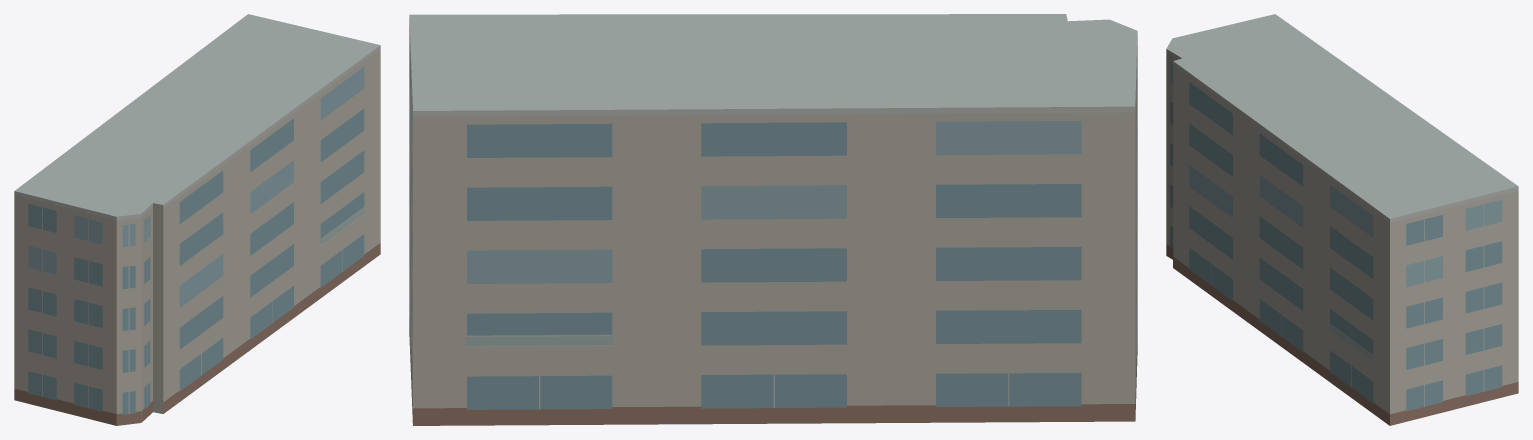
File: survey-upis-32765161.glb
The picture shows the model from 3 angles, left to right: view 1: azimuth 30°, elevation 25°; view 2: azimuth 150°, elevation 25°; view 3: azimuth 270°, elevation 25°; orthographic projection. The views are drawn at different scales.
Parts seen in each view (by area): view 1: survey-upis-32765161.tmp; view 2: survey-upis-32765161.tmp; view 3: survey-upis-32765161.tmp.
Part boxes in pixels (x1,y1,x2,y2): survey-upis-32765161.tmp: (14, 14, 380, 425); survey-upis-32765161.tmp: (409, 14, 1137, 425); survey-upis-32765161.tmp: (1166, 14, 1518, 425).
Size of the model in its own units: 28.14 by 13.25 by 20.45.
